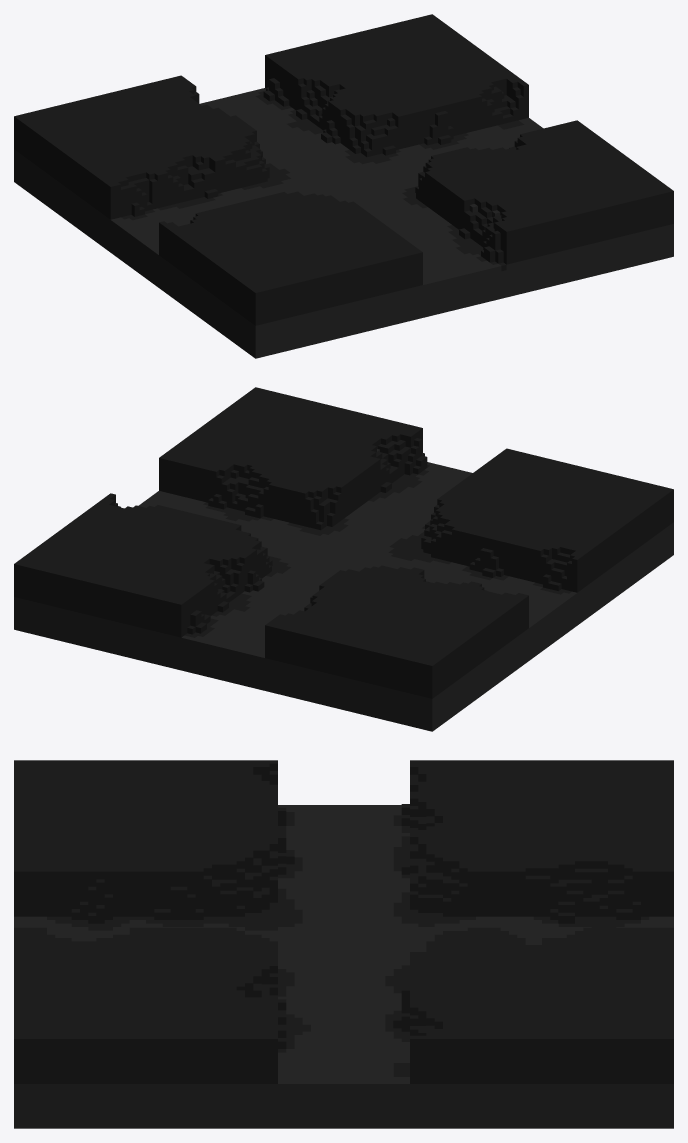
Rendered from Crossroad Path Vulcano Tile 1.obj.
The picture shows the model from 3 angles, top to bottom: view 1: azimuth 30°, elevation 25°; view 2: azimuth 150°, elevation 25°; view 3: azimuth 270°, elevation 25°; orthographic projection. The views are drawn at different scales.
Bounding box in the file's own units: 8 × 1.2 × 8.
1 material, 1 textured.
